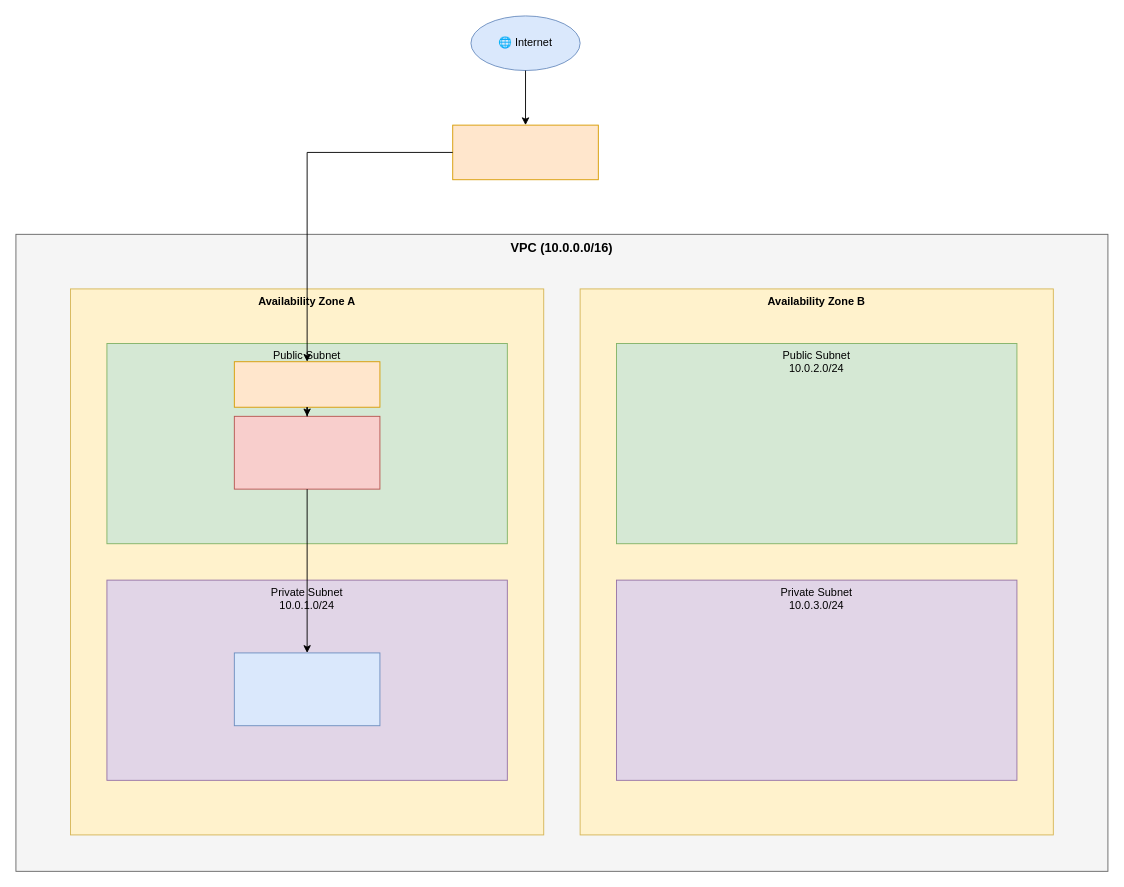
The diagram is 1124 pixels wide and 887 high, and some of its shapes have lost their labels. Each missing label, with the centre of its shape:
Internet Gateway: pixel 525 152
🔒 Security Group HTTP / HTTPS: pixel 306 384
🖥️ EC2 Web Application: pixel 306 452
🗄️ Amazon RDS MySQL (Multi-AZ): pixel 306 689
